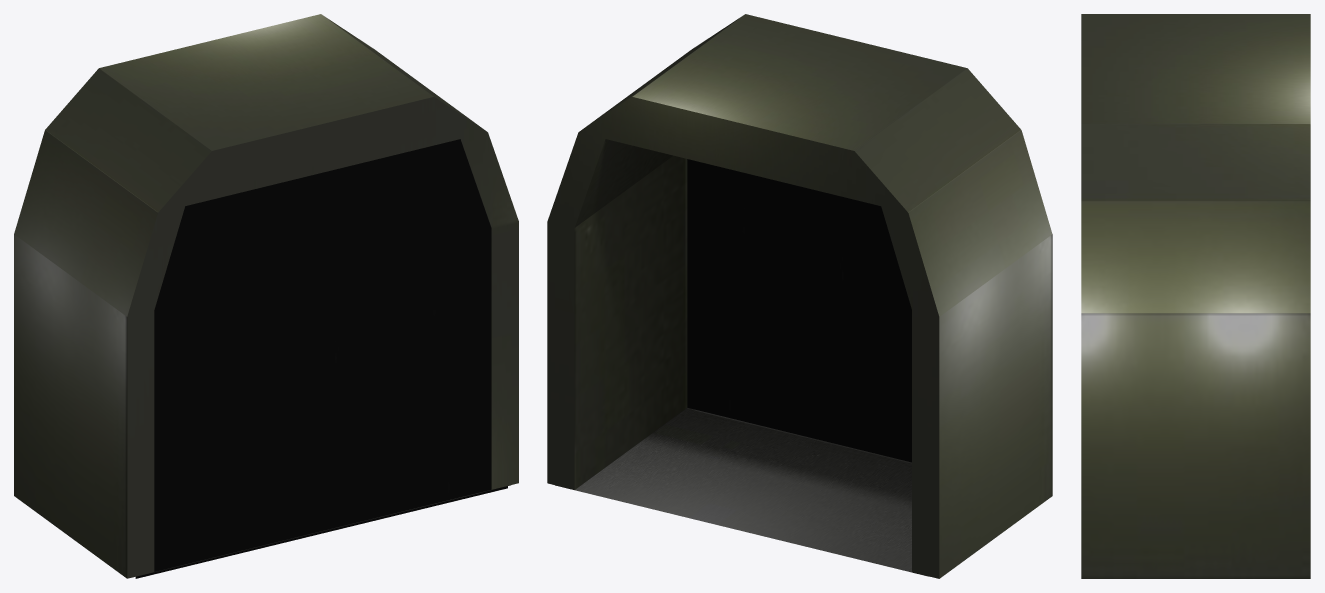
File: vault3.dae
The picture shows the model from 3 angles, left to right: view 1: azimuth 30°, elevation 25°; view 2: azimuth 150°, elevation 25°; view 3: azimuth 270°, elevation 25°; orthographic projection.
Parts seen in each view (by area): view 1: Cube; view 2: Cube; view 3: Cube.
Boxes of the visible parts, x1,y1,x2,y2 form: Cube: (14,14,518,578); Cube: (547,14,1052,578); Cube: (1081,14,1310,578).
Size of the model in its own units: 8 by 4 by 8.
1 material, 1 textured.
